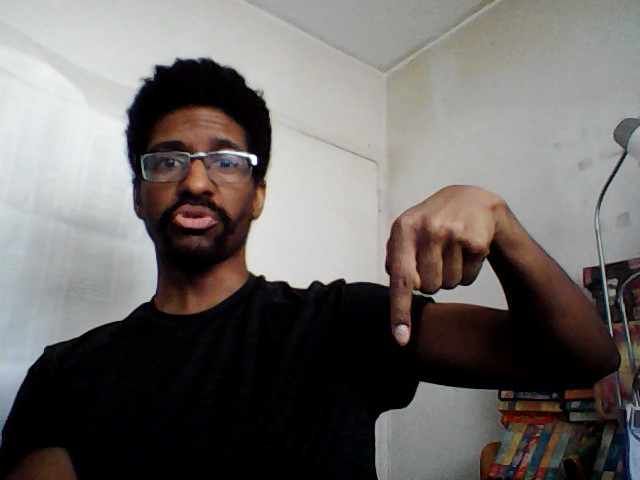q: (380, 180, 511, 351)
